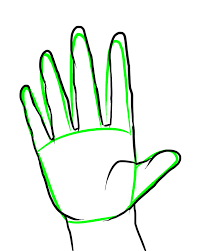palm: (48, 132, 139, 207)
